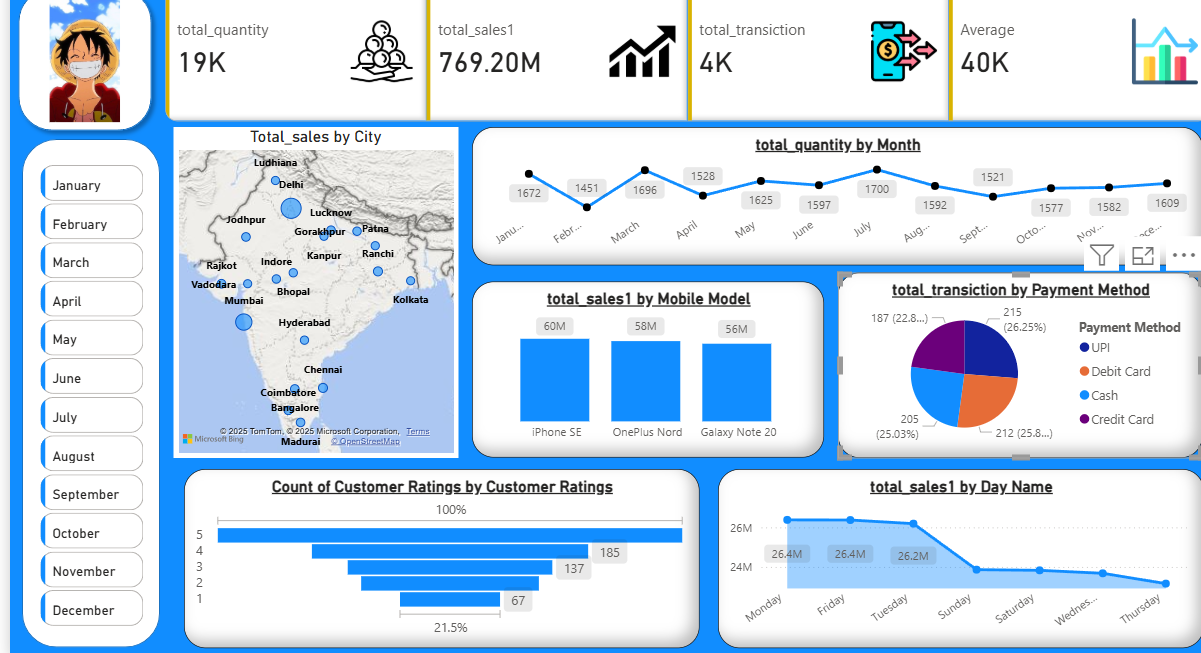

The page's visual inventory and layout, read from the dashboard file:
{"tool":"powerbi","page":{"name":"Page 1","canvas":[1280,720],"ordinal":0},"visuals":[{"type":"shape","box":[0,0,159.1,168.6],"z":0},{"type":"image","box":[0,12.7,159.1,143.2],"z":1000},{"type":"shape","box":[12.7,168.6,146.3,539.2],"z":2000},{"type":"advancedSlicerVisual","fields":{"Values":["sales_data.Date.Variation.Date Hierarchy.Month"]},"box":[27,190.9,119.3,499.5],"z":3000},{"type":"cardVisual","fields":{"Data":["sales_data.total_quantity","sales_data.total_sales1","sales_data.total_transiction","sales_data.Average"]},"box":[159.1,0,1121.4,155.9],"z":4000},{"type":"map","title":"Total_sales by City","fields":{"Category":["sales_data.City"],"Size":["sales_data.total_sales1"]},"box":[173.3,156.7,301.7,350],"z":5000},{"type":"lineChart","fields":{"Y":["sales_data.total_quantity"],"Category":["sales_data.Date.Variation.Date Hierarchy.Month"]},"box":[490,156.7,775,146.7],"z":6000},{"type":"clusteredColumnChart","fields":{"Y":["sales_data.total_sales1"],"Category":["sales_data.Mobile Model"]},"box":[490,320,373.3,186.7],"z":7000},{"type":"pieChart","fields":{"Category":["sales_data.Payment Method"],"Y":["sales_data.total_transiction"]},"box":[878.3,310,386.7,196.7],"z":8000},{"type":"funnel","fields":{"Y":["CountNonNull(sales_data.Customer Ratings)"],"Category":["sales_data.Customer Ratings"]},"box":[185,518.3,546.7,190],"z":9000},{"type":"stackedAreaChart","fields":{"Category":["sales_data.Day Name"],"Y":["sales_data.total_sales1"]},"box":[750,518.3,515,190],"z":10000}]}

Visuals, with their boxes in screenshot pixels (x1, y1, x2, y2):
shape: 0/0/153/131
image: 0/0/153/119
shape: 12/131/153/650
advancedSlicerVisual - sales_data.Date.Variation.Date Hierarchy.Month: 26/152/141/633
cardVisual - sales_data.total_quantity x sales_data.total_sales1: 153/0/1200/119
"Total_sales by City" map: 167/120/457/456
lineChart - sales_data.total_quantity x sales_data.Date.Variation.Date Hierarchy.Month: 472/120/1200/261
clusteredColumnChart - sales_data.total_sales1 x sales_data.Mobile Model: 472/277/831/456
pieChart - sales_data.Payment Method x sales_data.total_transiction: 845/267/1200/456
funnel - CountNonNull(sales_data.Customer Ratings) x sales_data.Customer Ratings: 178/468/704/650
stackedAreaChart - sales_data.Day Name x sales_data.total_sales1: 722/468/1200/650
